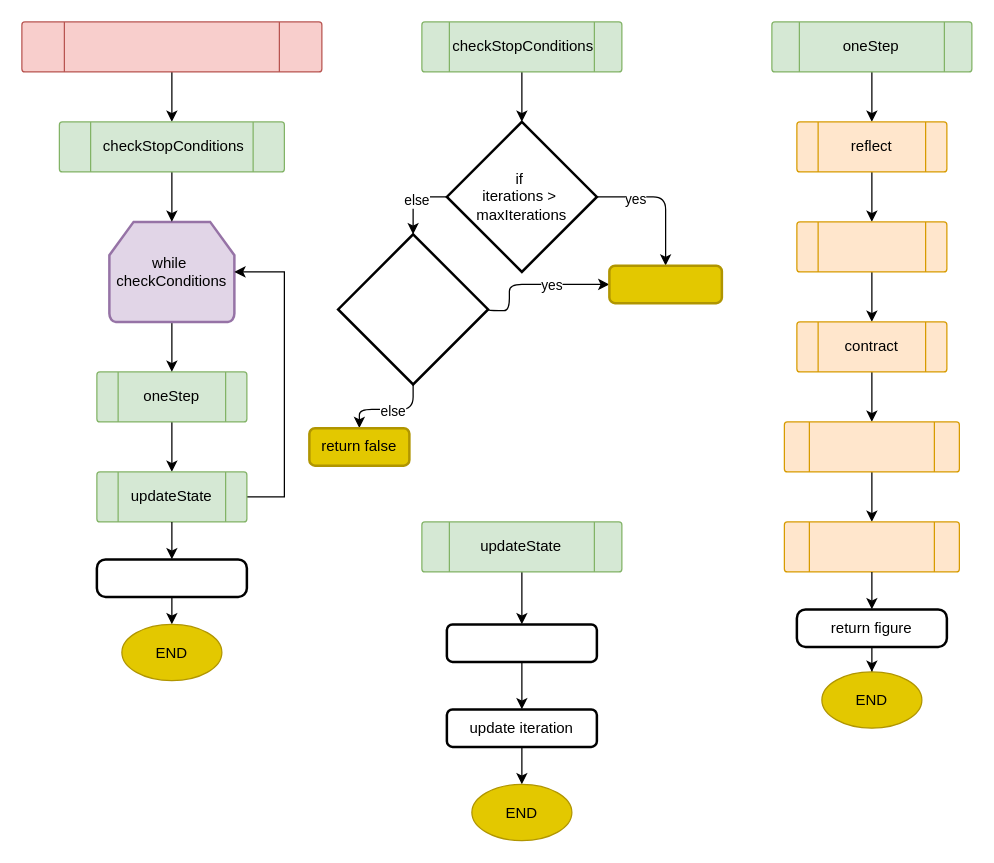
Image size: 994x863. Some labels were removed from this diagram. Here are the shapes that lost their labels. From the top down, the box of each, then its label:
(21, 21, 322, 72): minimize
(796, 221, 947, 272): expand
(608, 264, 722, 304): return true
(336, 232, 489, 385): if bestError > maxError
(783, 421, 959, 472): decideOperation
(783, 521, 959, 572): doOperation
(95, 558, 248, 598): return parameters
(445, 622, 598, 662): update BestError
